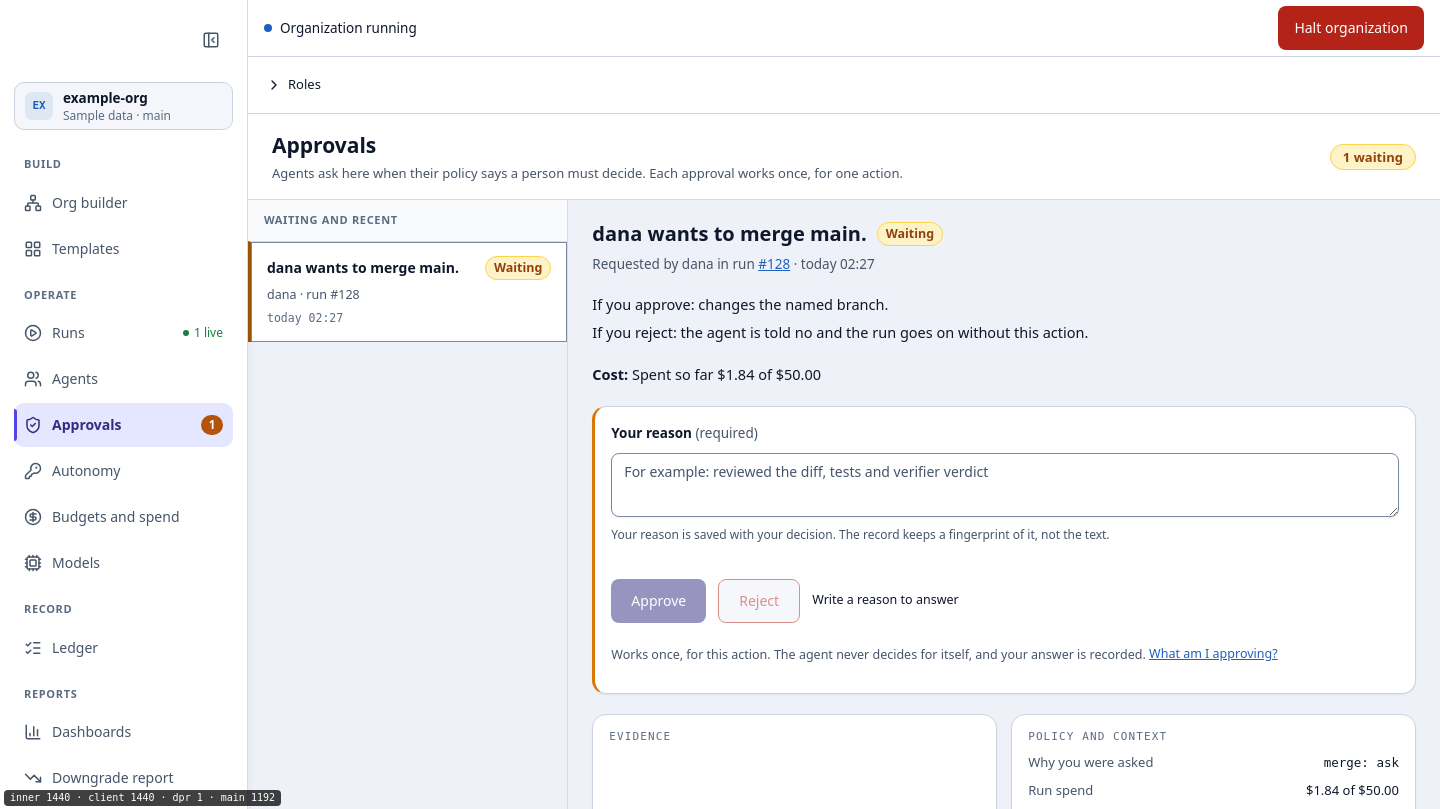
Test case: solo approve: the confirm dialog (SA-17) › says 'You started this run.' before 'Nobody else will review this.' for the originator
Type "read the diff" into the text box labelled "Your reason (required)".
click(1005, 485); type("read the diff")  # box [611,453,1399,517]
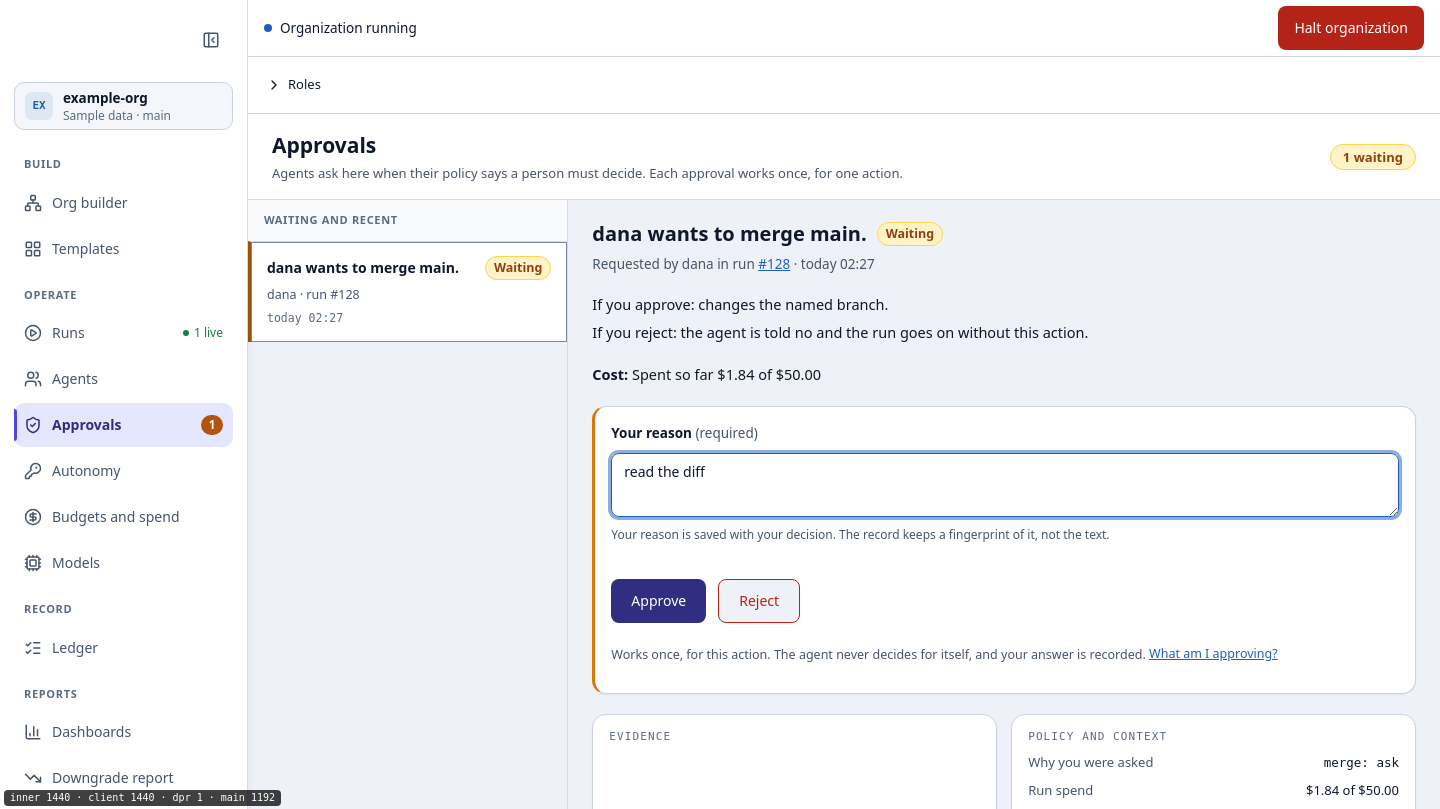
Click the button "Approve".
click(659, 601)  # box [611,579,706,623]
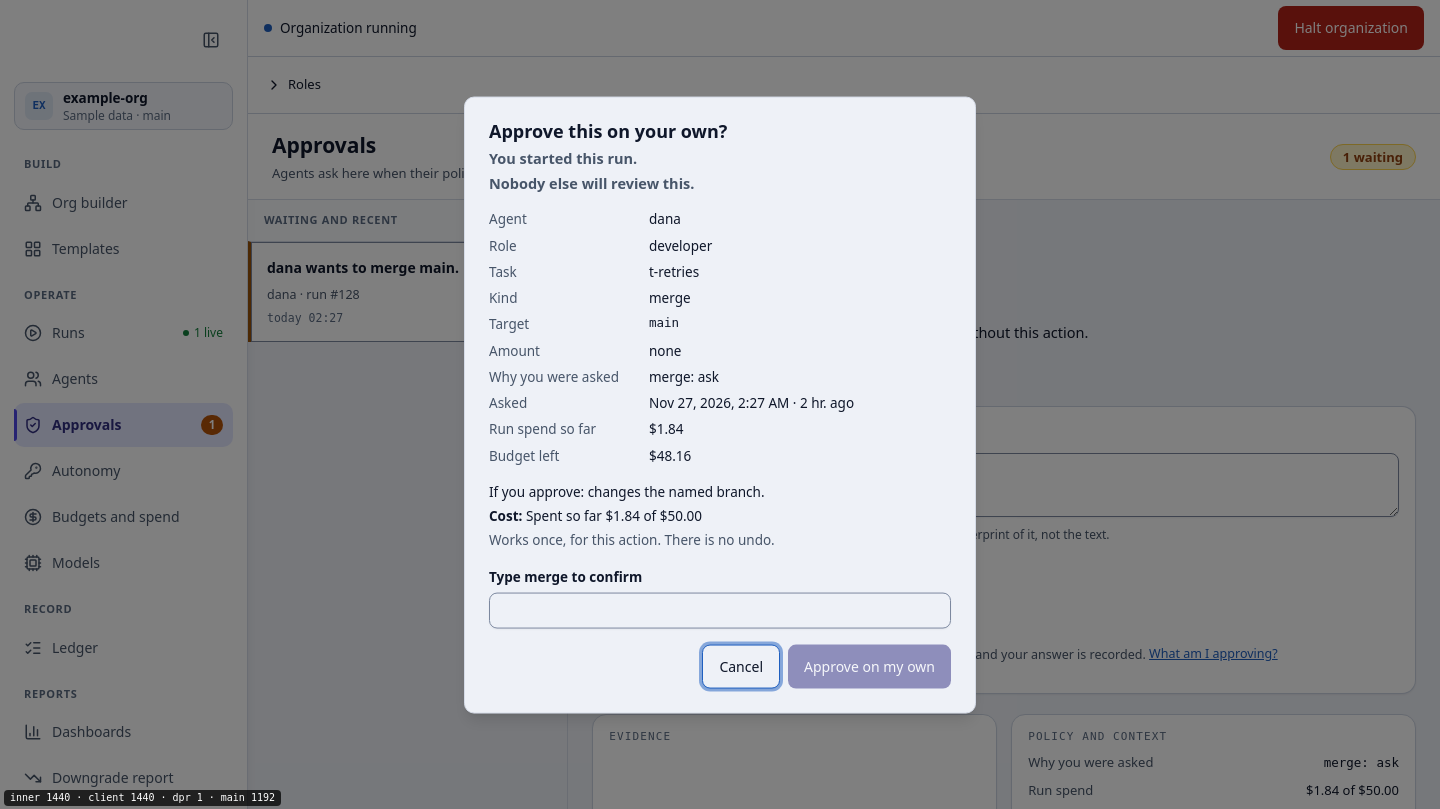
Expected: the dialog shows "You started this run.", [489,148,637,168]
